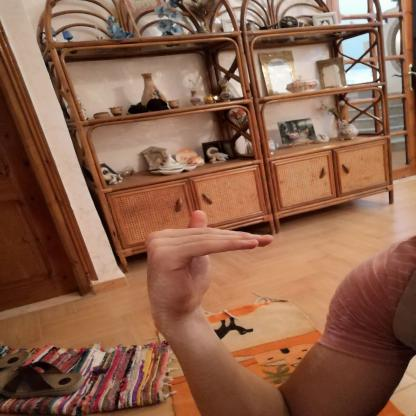KHAA: (130, 202, 292, 324)
